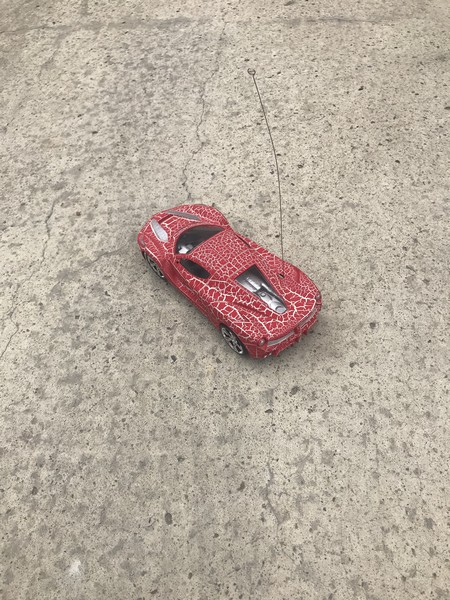RC: (135, 202, 324, 363)
